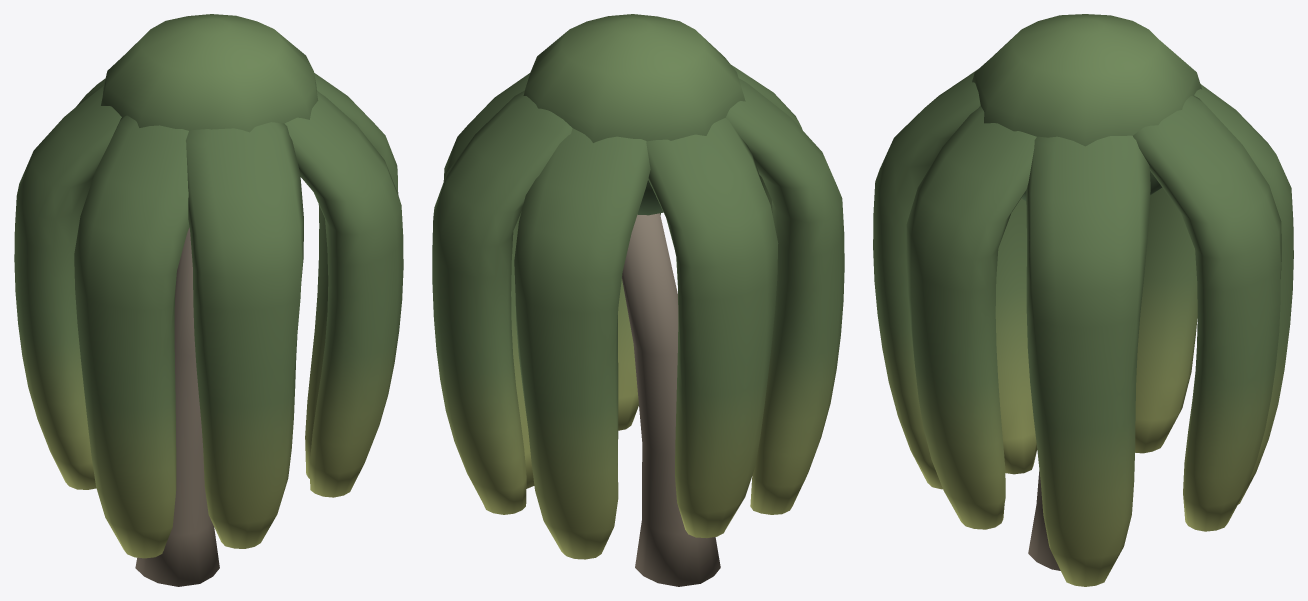
File: ENV_Willow_Tree_A.fbx
3 renders of one model, left to right at view 1: azimuth 30°, elevation 25°; view 2: azimuth 150°, elevation 25°; view 3: azimuth 270°, elevation 25°, orthographic. The views are drawn at different scales.
Visible parts, largest first — view 1: ENV_Willow_Tree_A_LOD0; view 2: ENV_Willow_Tree_A_LOD0; view 3: ENV_Willow_Tree_A_LOD0.
Boxes of the visible parts, <box> form: ENV_Willow_Tree_A_LOD0: <box>14,14,403,586</box>; ENV_Willow_Tree_A_LOD0: <box>432,14,844,586</box>; ENV_Willow_Tree_A_LOD0: <box>873,14,1293,586</box>.
Size of what is drawn, in the model's own units: 2.61 by 3.85 by 2.69.
